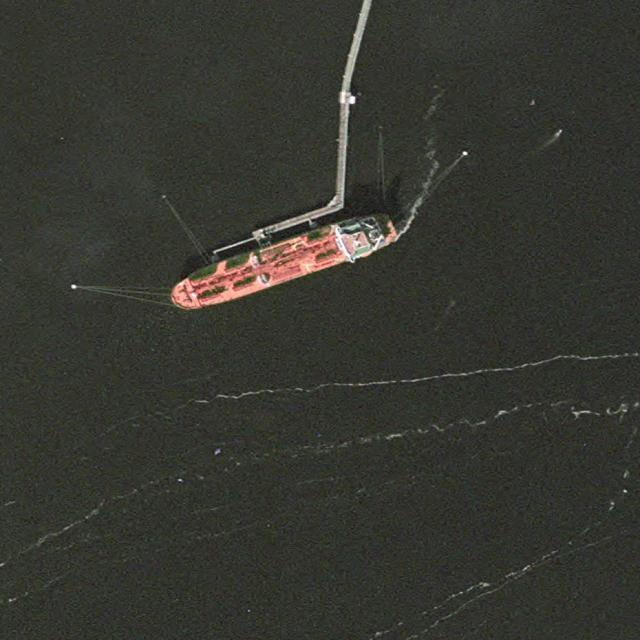Dock: (208, 200, 345, 259)
Oil Tanker: (165, 206, 401, 317)
